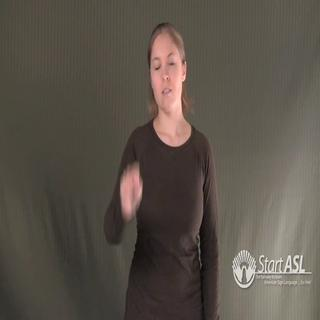yes: (107, 162, 151, 218)
